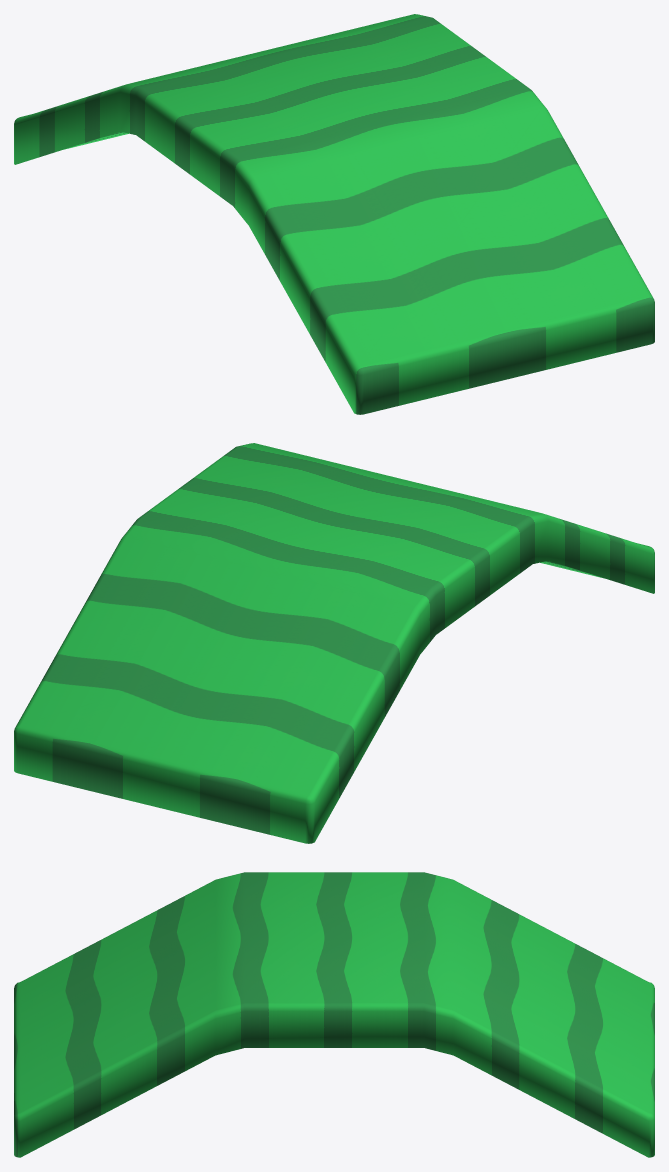
The model's file is Platform_W_2.fbx.
3 renders of one model, top to bottom at view 1: azimuth 30°, elevation 25°; view 2: azimuth 150°, elevation 25°; view 3: azimuth 270°, elevation 25°, orthographic. The views are drawn at different scales.
Visible parts, largest first — view 1: Platform_W_2; view 2: Platform_W_2; view 3: Platform_W_2.
Part boxes in pixels (x1,y1,x2,y2): Platform_W_2: [14, 14, 654, 414]; Platform_W_2: [14, 443, 654, 843]; Platform_W_2: [14, 872, 654, 1157].
Bounding box in the file's own units: 16 × 8.38 × 32.
